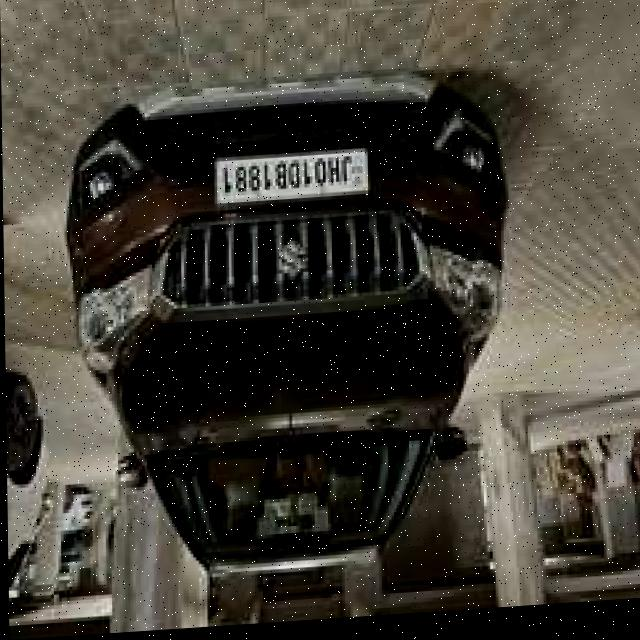plate: (212, 154, 371, 209)
